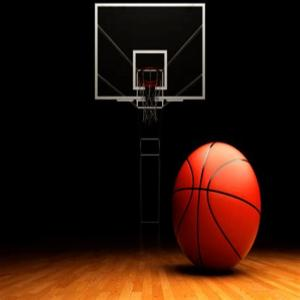Basket: (172, 141, 262, 273)
